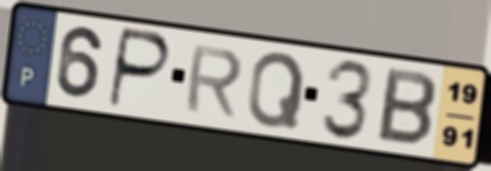3: (321, 57, 375, 143)
6: (55, 23, 107, 102)
B: (373, 64, 440, 149)
P: (105, 25, 174, 112)
Q: (244, 50, 308, 130)
R: (181, 43, 246, 120)
